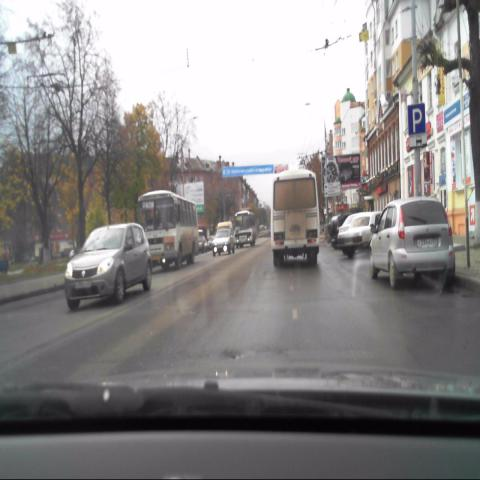8_6_2: (407, 134, 426, 147)
